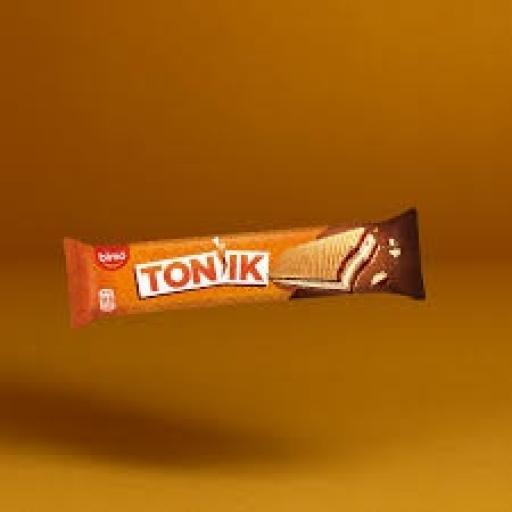tonik: (49, 191, 449, 378)
